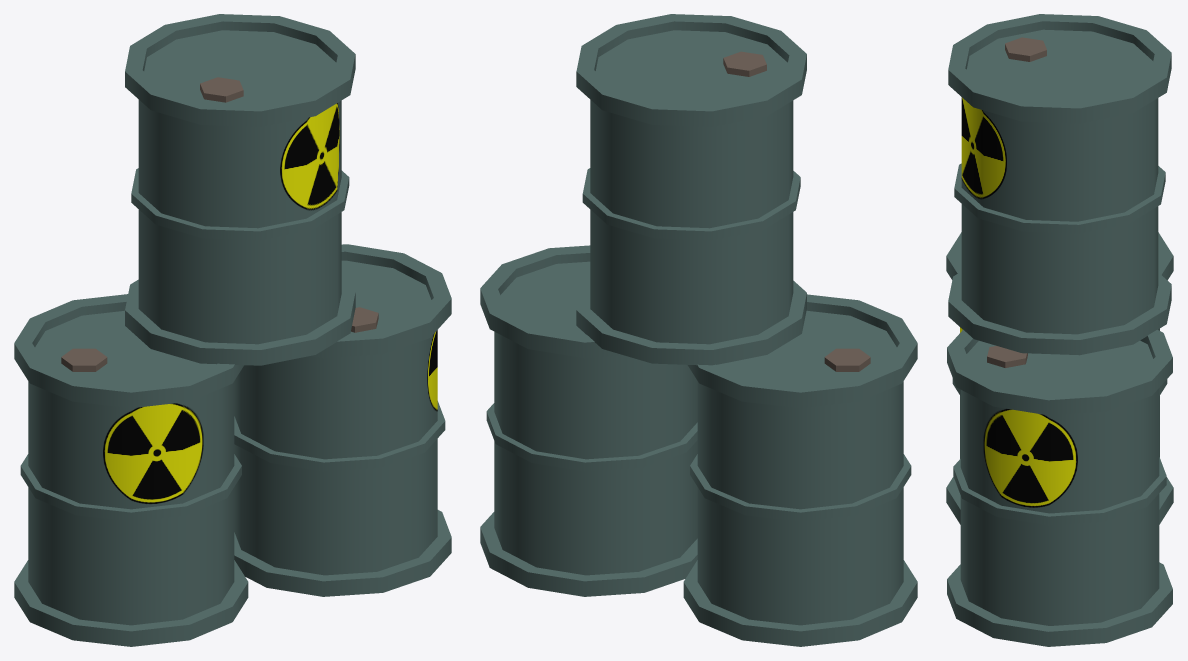
File: barells.fbx
3 renders of one model, left to right at view 1: azimuth 30°, elevation 25°; view 2: azimuth 150°, elevation 25°; view 3: azimuth 270°, elevation 25°, orthographic. The views are drawn at different scales.
Parts seen in each view (by area): view 1: barells; view 2: barells; view 3: barells.
Part boxes in pixels (box(x1,y1,x2,y2)): barells: box(14, 14, 451, 646); barells: box(480, 14, 917, 646); barells: box(946, 14, 1173, 646).
Size of the model in its own units: 239 by 286 by 119.
